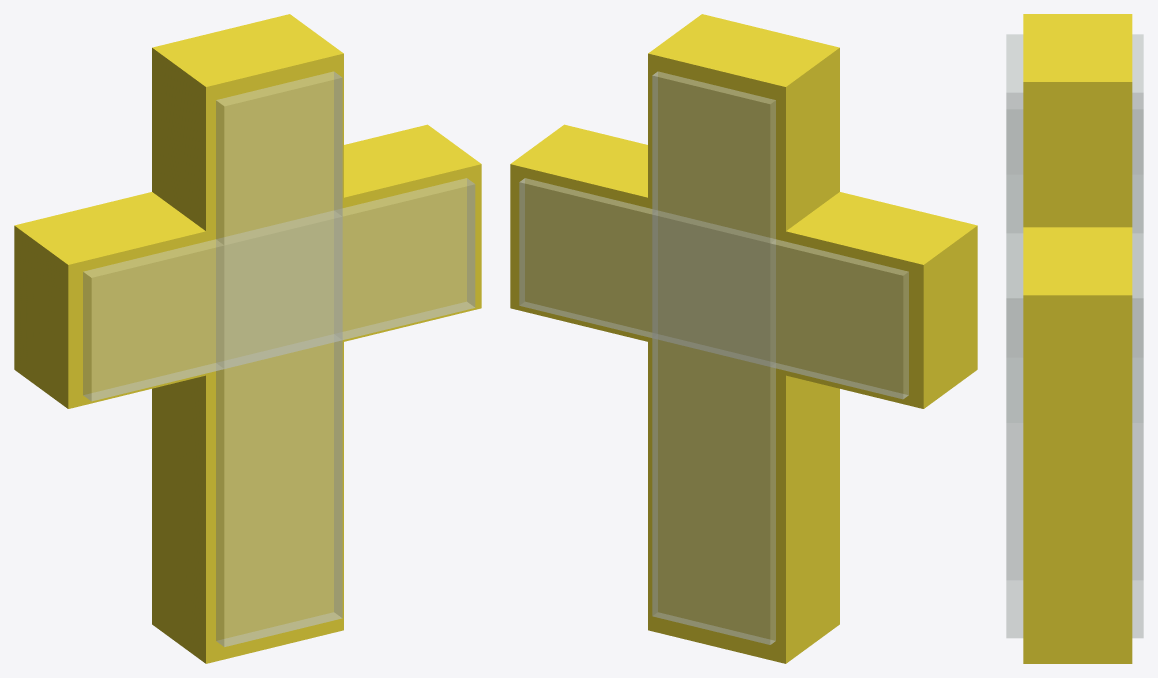
Rendered from Cross.obj.
3 views of the same model, side by side, from view 1: azimuth 30°, elevation 25°; view 2: azimuth 150°, elevation 25°; view 3: azimuth 270°, elevation 25° (orthographic).
Visible parts, largest first — view 1: group1875935545, group1172049869, group2083030800, group229633251; view 2: group1875935545, group1172049869, group2083030800, group229633251; view 3: group1875935545, group2083030800, group1172049869, group229633251.
Part boxes in pixels (bbox=[...]): group1875935545: bbox=[152, 14, 343, 663]; group1172049869: bbox=[216, 71, 342, 646]; group2083030800: bbox=[14, 124, 481, 408]; group229633251: bbox=[83, 178, 475, 401]; group1875935545: bbox=[648, 14, 839, 663]; group1172049869: bbox=[652, 71, 775, 644]; group2083030800: bbox=[510, 124, 977, 408]; group229633251: bbox=[519, 178, 908, 399]; group1875935545: bbox=[1023, 14, 1132, 663]; group2083030800: bbox=[1023, 227, 1132, 440]; group1172049869: bbox=[1006, 34, 1143, 638]; group229633251: bbox=[1006, 109, 1143, 422].
Bounding box in the file's own units: 0.28 × 0.3733 × 0.08.
